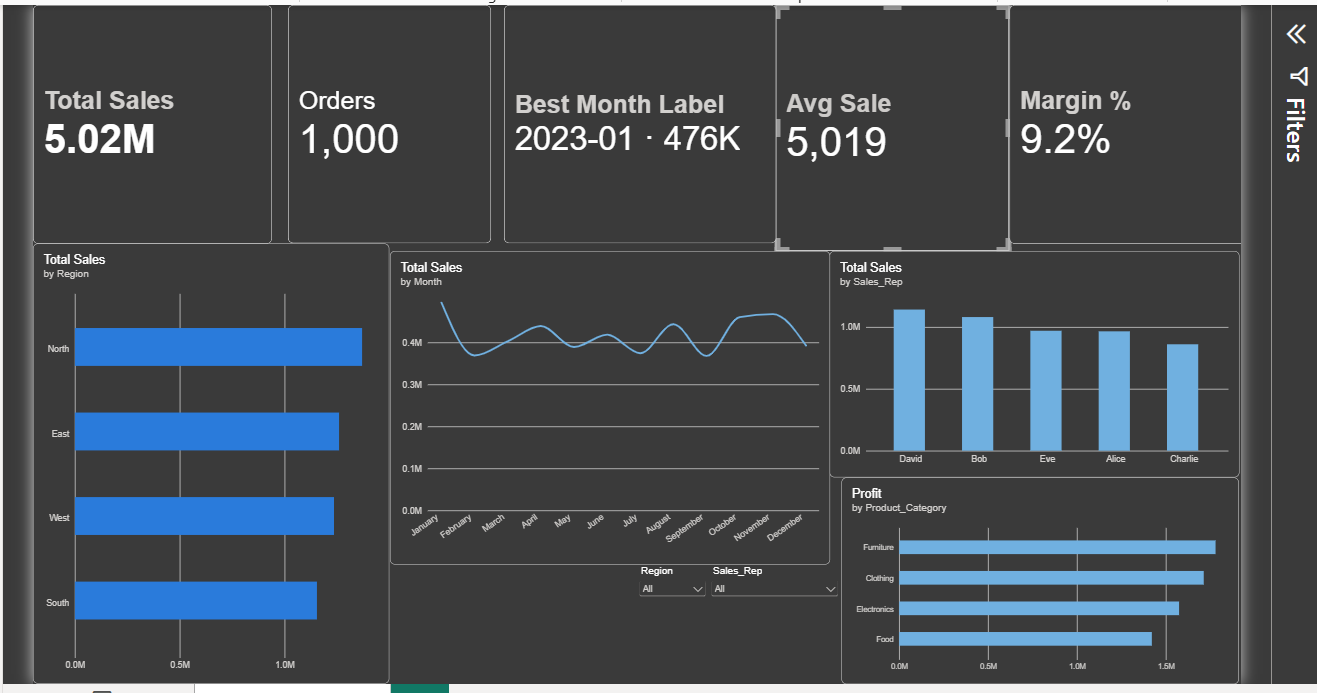

The dashboard page shown, as its layout file describes it:
{"tool":"powerbi","page":{"name":"Sales Dashboard","canvas":[1920,1080],"ordinal":0},"visuals":[{"type":"cardVisual","fields":{"Data":["SalesData.Total Sales"]},"box":[-0.6,0,380,380],"z":0},{"type":"cardVisual","fields":{"Data":["SalesData.orders"]},"box":[405.4,0,323.2,379.8],"z":1000},{"type":"cardVisual","fields":{"Data":["SalesData.AVg Sale"]},"box":[1182.1,0,371.3,391.2],"z":2000},{"type":"cardVisual","fields":{"Data":["SalesData.Margin %"]},"box":[1552.8,0,380,380],"z":3000},{"type":"cardVisual","fields":{"Data":["SalesData.Best Month Label"]},"box":[748.4,0,433.7,379.8],"z":4000},{"type":"clusteredBarChart","fields":{"Category":["SalesData.Region"],"Y":["SalesData.Total Sales"]},"box":[0,379.8,566.9,700.2],"z":5000},{"type":"columnChart","fields":{"Category":["SalesData.Sales_Rep"],"Y":["SalesData.Total Sales"]},"box":[1267.1,391.2,652,360],"z":5001},{"type":"lineChart","fields":{"Category":["SalesData.Sale_Date.Variation.Date Hierarchy.Month"],"Y":["SalesData.Total Sales"]},"box":[566.9,391.2,700.2,498.9],"z":5002},{"type":"clusteredBarChart","fields":{"Category":["SalesData.Product_Category"],"Y":["SalesData.Profit"]},"box":[1286.9,751.2,632.1,328.8],"z":5003},{"type":"slicer","fields":{"Values":["SalesData.Region"]},"box":[958.1,890.1,116.2,189.9],"z":5004},{"type":"slicer","fields":{"Values":["SalesData.Sales_Rep"]},"box":[1074.3,890.1,212.6,189.9],"z":5005}]}

Visuals, with their boxes in screenshot pixels (x1, y1, x2, y2):
cardVisual - SalesData.Total Sales: box(27, 0, 267, 240)
cardVisual - SalesData.orders: box(284, 0, 488, 240)
cardVisual - SalesData.AVg Sale: box(775, 0, 1010, 247)
cardVisual - SalesData.Margin %: box(1010, 0, 1250, 240)
cardVisual - SalesData.Best Month Label: box(501, 0, 775, 240)
clusteredBarChart - SalesData.Region x SalesData.Total Sales: box(27, 240, 386, 683)
columnChart - SalesData.Sales_Rep x SalesData.Total Sales: box(829, 247, 1241, 475)
lineChart - SalesData.Sale_Date.Variation.Date Hierarchy.Month x SalesData.Total Sales: box(386, 247, 829, 563)
clusteredBarChart - SalesData.Product_Category x SalesData.Profit: box(842, 475, 1241, 683)
slicer - SalesData.Region: box(634, 563, 707, 683)
slicer - SalesData.Sales_Rep: box(707, 563, 842, 683)
